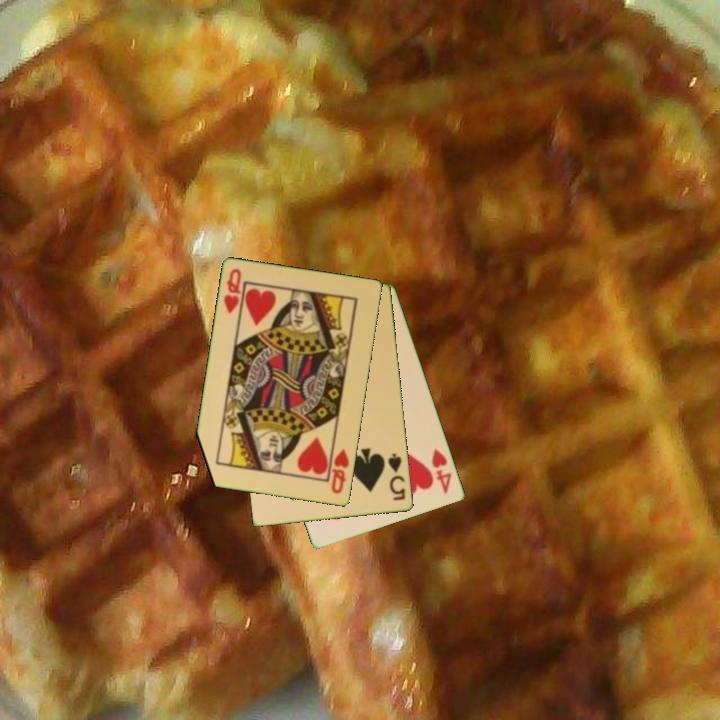4h: (428, 445, 455, 497)
5s: (385, 450, 408, 503)
Qh: (326, 442, 352, 497), (221, 265, 244, 317)
